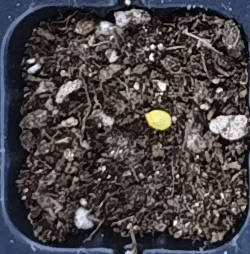chilli seed: (143, 108, 172, 131)
